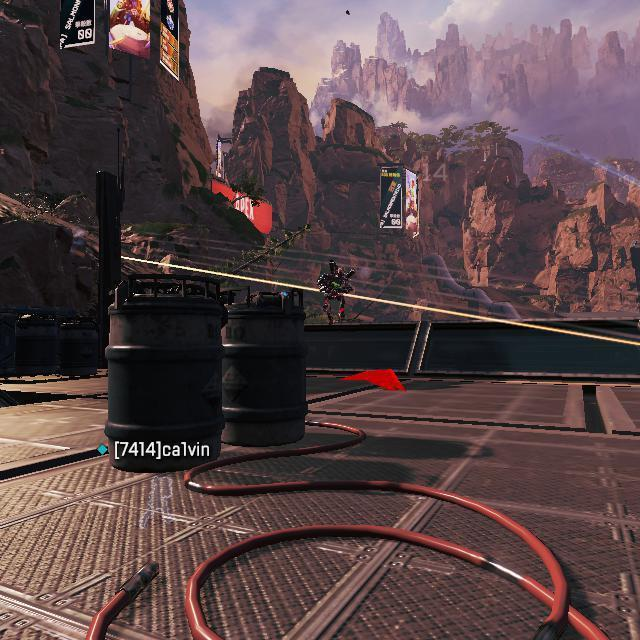avatar: (316, 263, 357, 327)
